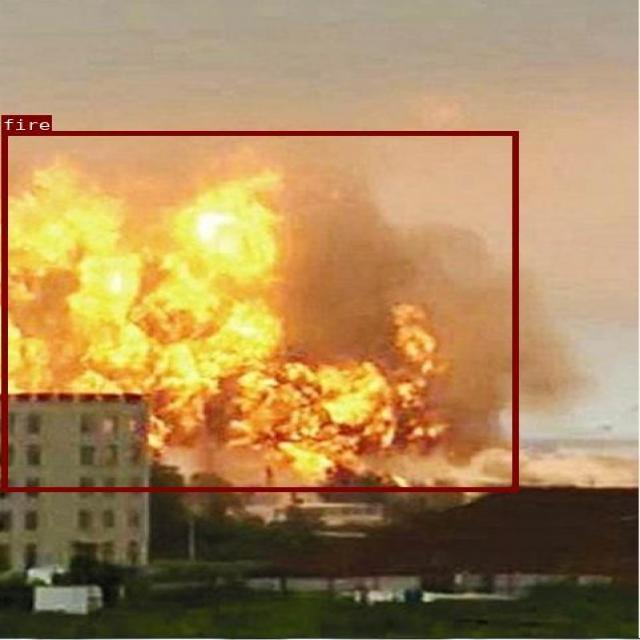fire: (0, 130, 517, 491)
